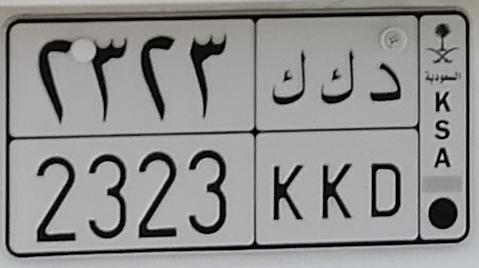2: (34, 39, 79, 245), (137, 34, 178, 239)
3: (87, 36, 128, 241), (189, 33, 228, 236)
D: (369, 61, 403, 219)
K: (272, 47, 308, 223), (320, 48, 354, 222)
